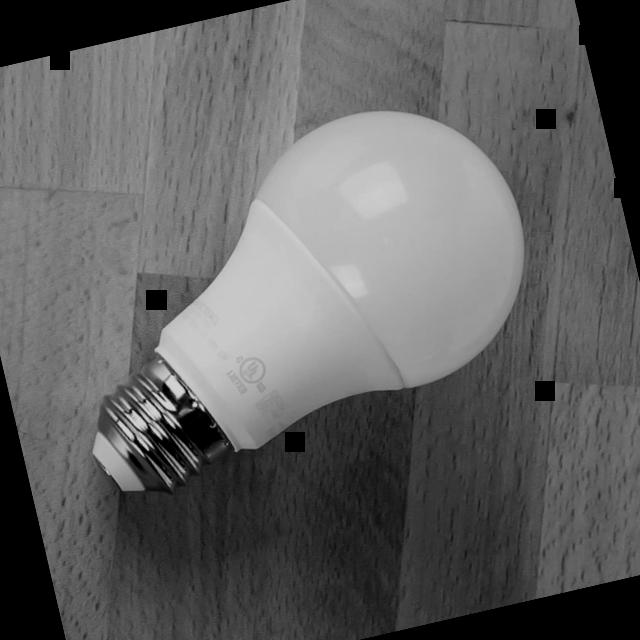light_bulb: (23, 79, 573, 522)
